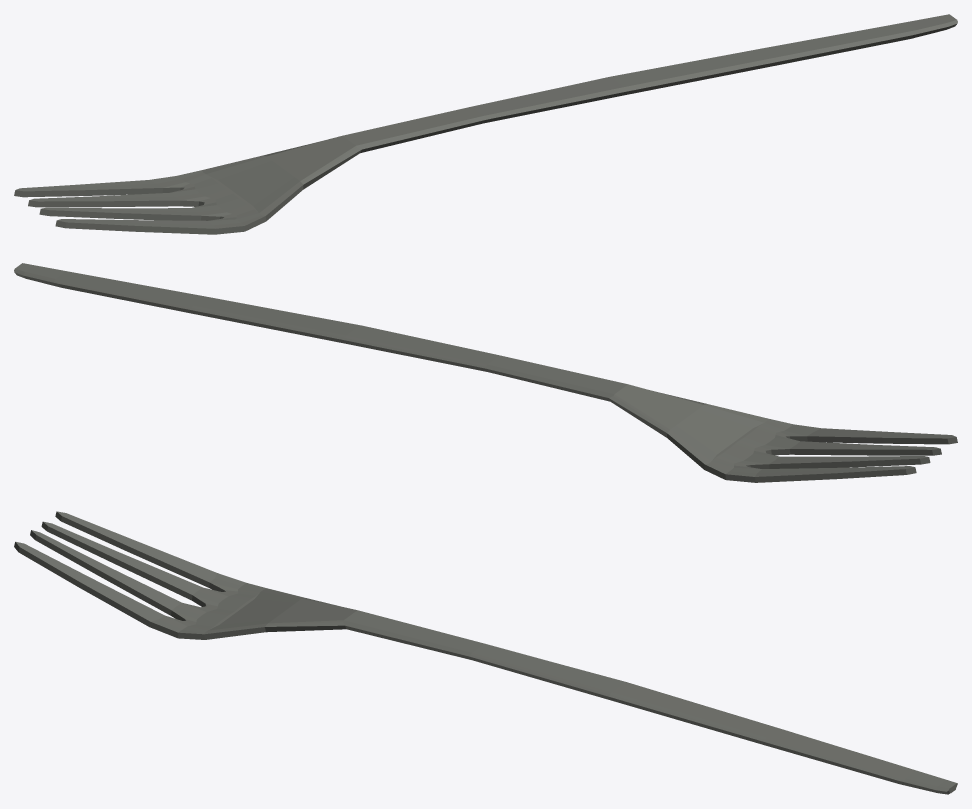
Rendered from Gabel.fbx.
The picture shows the model from 3 angles, top to bottom: view 1: azimuth 30°, elevation 25°; view 2: azimuth 150°, elevation 25°; view 3: azimuth 330°, elevation 25°; orthographic projection.
Parts seen in each view (by area): view 1: Gabel; view 2: Gabel; view 3: Gabel.
Part boxes in pixels (x1,y1,x2,y2): Gabel: (14,14,957,234); Gabel: (14,263,957,482); Gabel: (14,511,957,794).
Bounding box in the file's own units: 1662 × 77.8 × 215.
